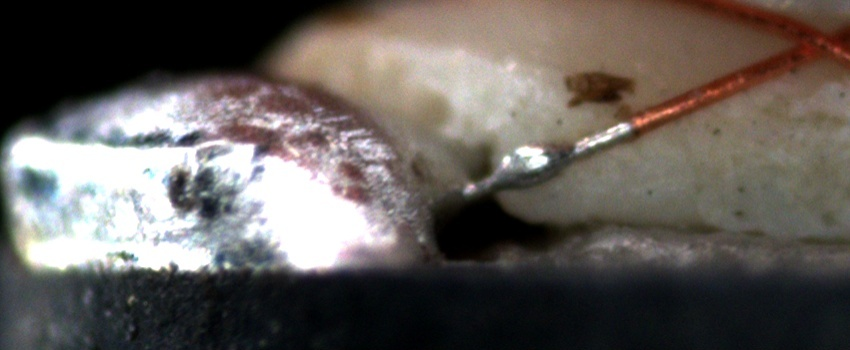CL: (768, 15, 842, 72)
TB: (492, 134, 574, 190)
TS: (465, 120, 635, 198)
TTCW: (458, 99, 682, 202)
